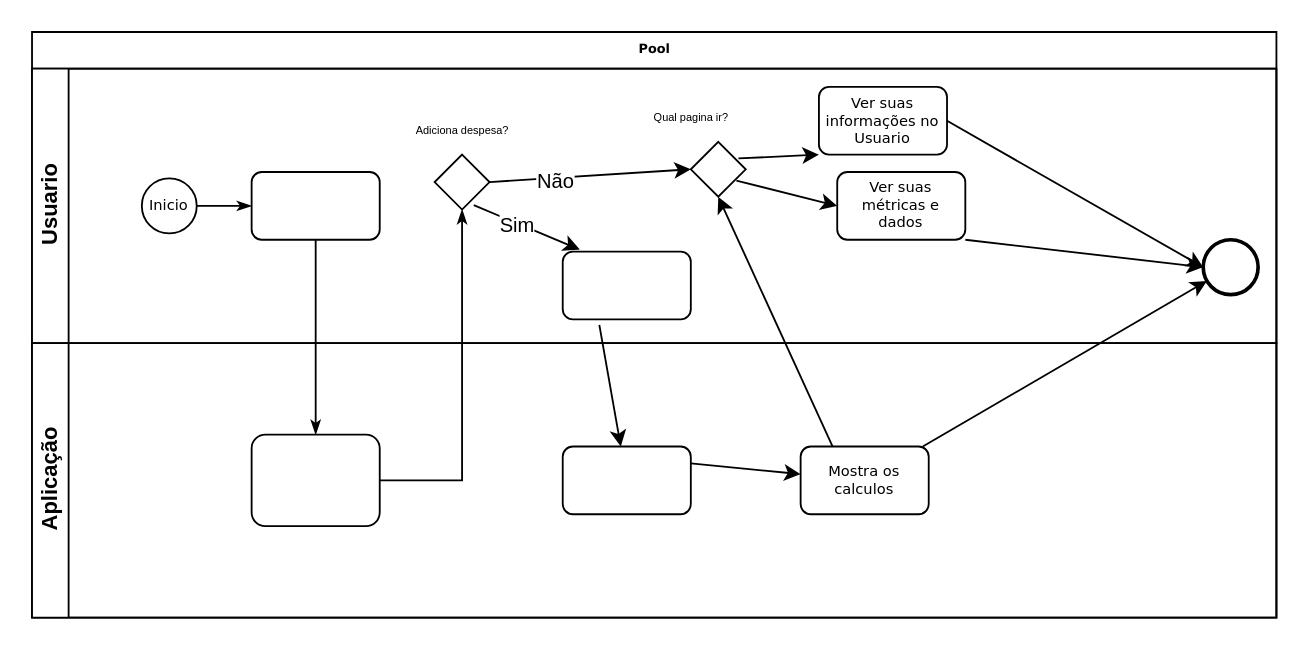
Some shapes in this 1308 by 650 pixel diagram are drawn without their labels. Each missing label, with the centre of its shape:
"Adicionar a despesa" belongs at point (626, 284).
"Carrega para a pagina de adicionar despesa" belongs at point (315, 479).
"Realiza os cálculos a partir dos dados fornecidos" belongs at point (626, 479).
"seleciona o botão começar" belongs at point (315, 205).
